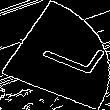L_NW: (15, 30, 95, 80)
